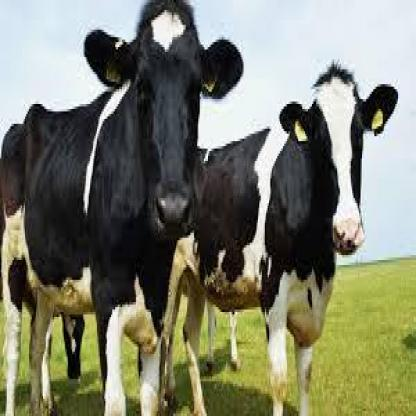cow: (0, 0, 244, 416), (165, 64, 399, 416)
